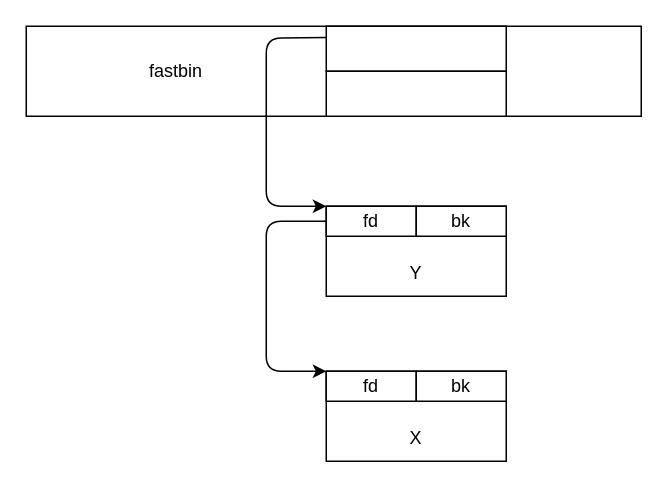
This 668x488 diagram has some shape labels left out. Each missing label, with the centre of its shape:
"0x70 bin" belongs at point 415,48.
"count: 2" belongs at point 415,93.
